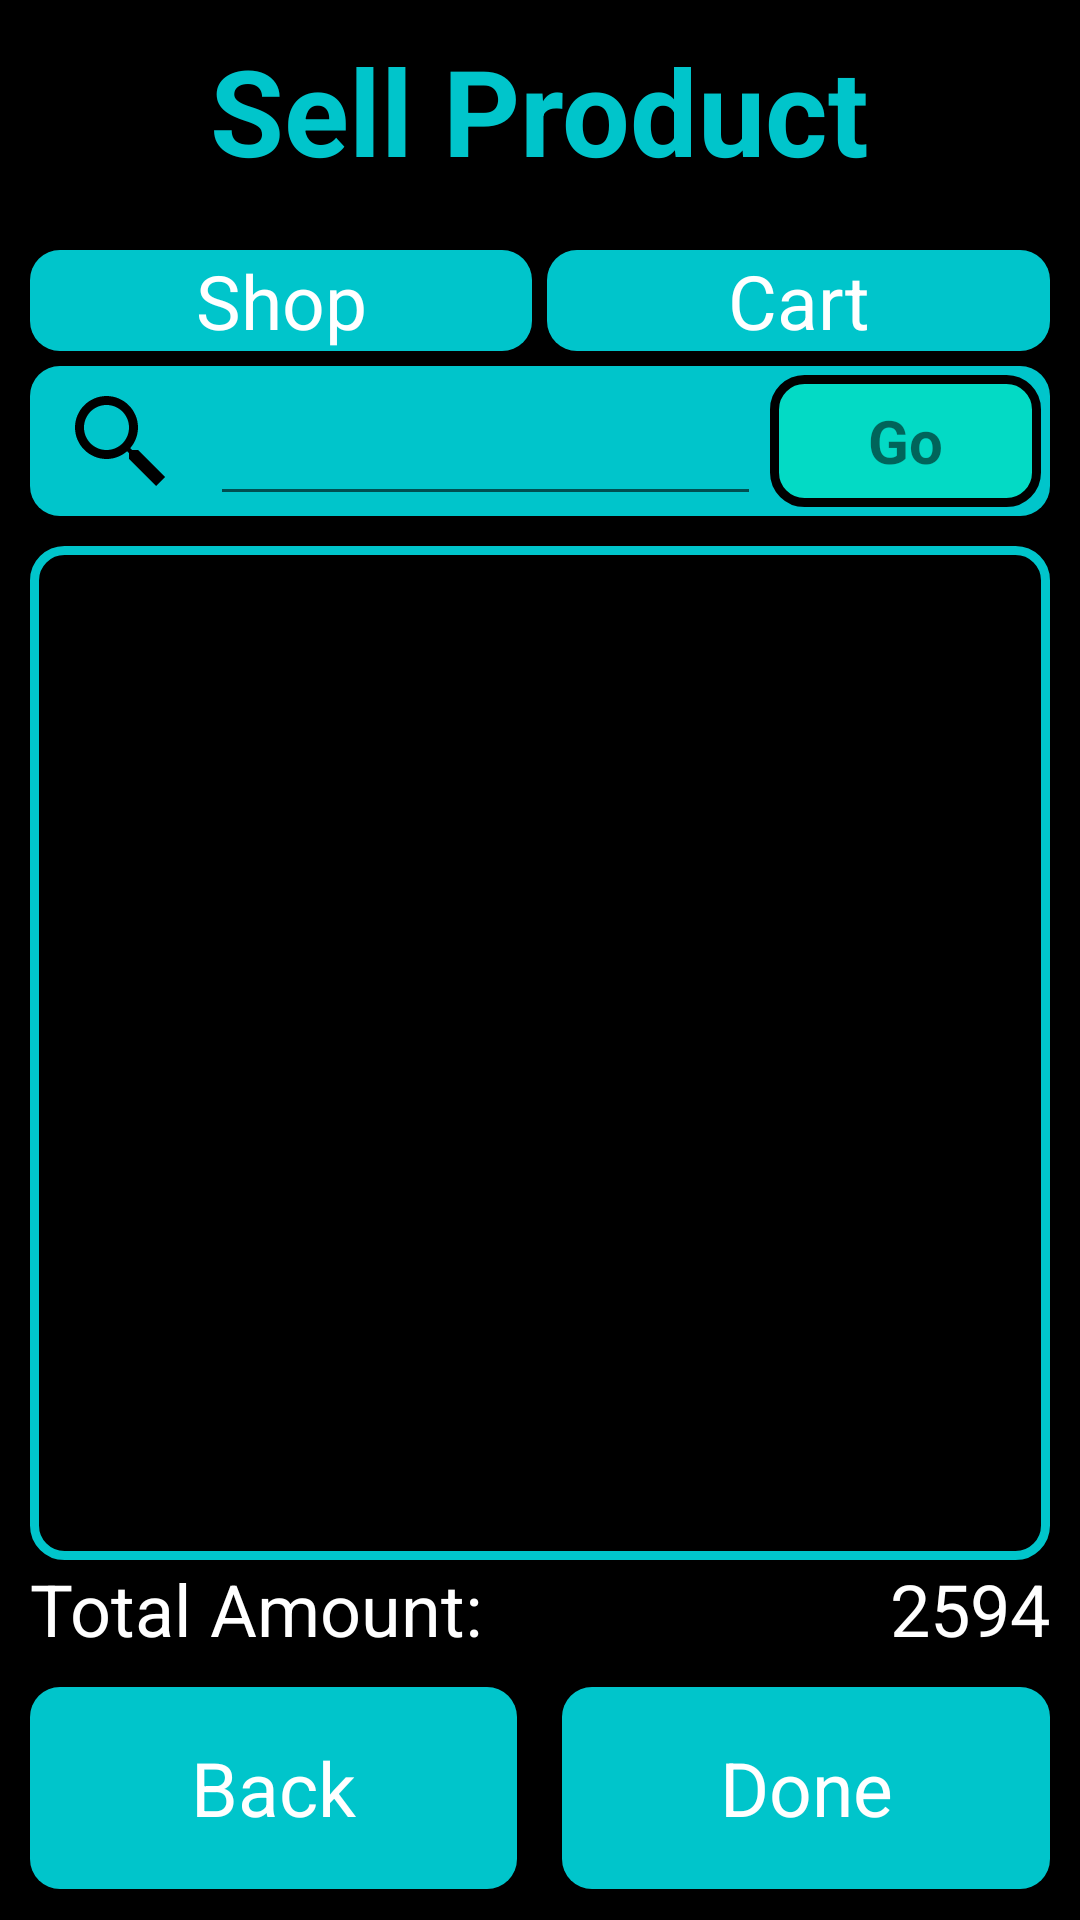

Icons on this 1080×1920 Android screen, each with the point to tap as point (x, y):
search: point (120, 441)
